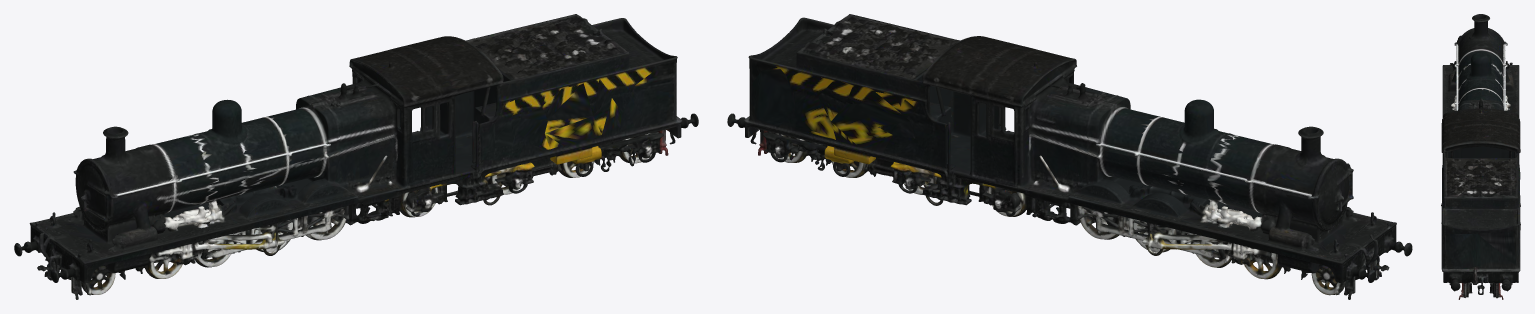
The model's file is class531.01_steam_locomotive.glb.
3 views of the same model, side by side, from view 1: azimuth 30°, elevation 25°; view 2: azimuth 150°, elevation 25°; view 3: azimuth 270°, elevation 25° (orthographic). The views are drawn at different scales.
Parts seen in each view (by area): view 1: Meshy_AI_Midnight_Steam_Locomo_0813174320_texture; view 2: Meshy_AI_Midnight_Steam_Locomo_0813174320_texture; view 3: Meshy_AI_Midnight_Steam_Locomo_0813174320_texture.
Part boxes in pixels (box(x1,y1,x2,y2)): Meshy_AI_Midnight_Steam_Locomo_0813174320_texture: box(14, 14, 698, 299); Meshy_AI_Midnight_Steam_Locomo_0813174320_texture: box(727, 14, 1412, 299); Meshy_AI_Midnight_Steam_Locomo_0813174320_texture: box(1441, 14, 1520, 299).
Size of the model in its own units: 1.9 by 0.4271 by 0.2923.
1 material, 1 textured.
